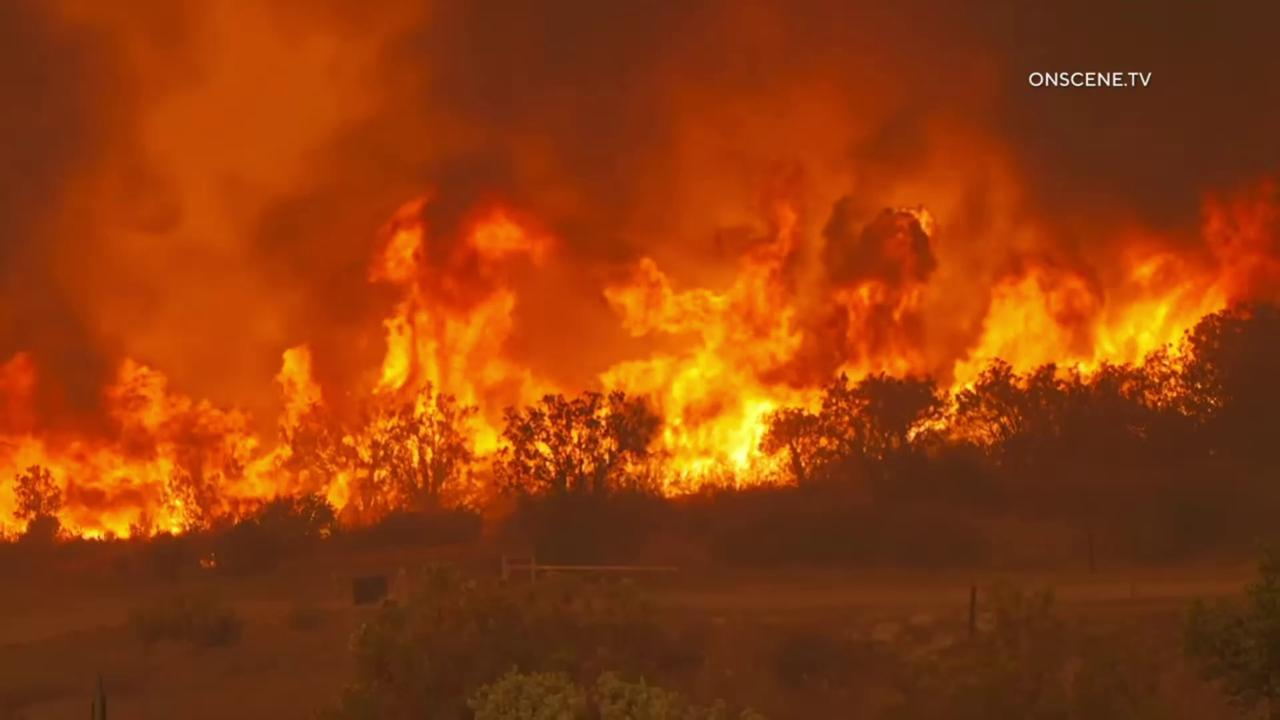fire: (0, 157, 1280, 550)
smoke: (0, 0, 1280, 720)
